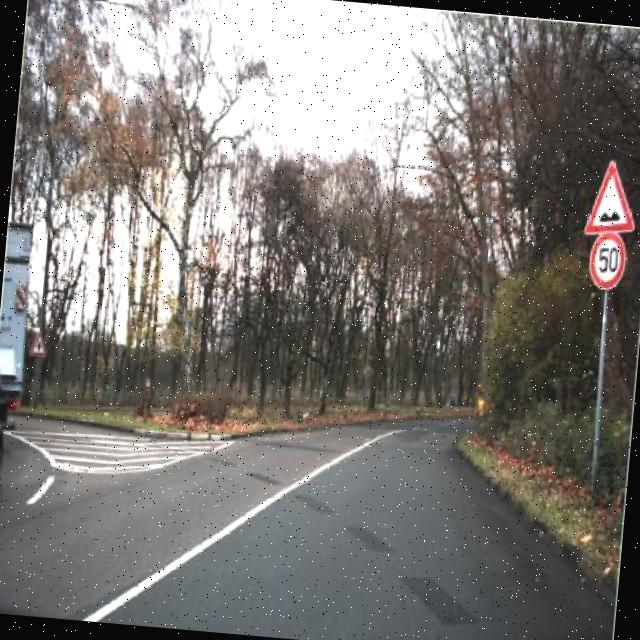Ograniczenie predkosci do 50: (584, 232, 630, 294)
